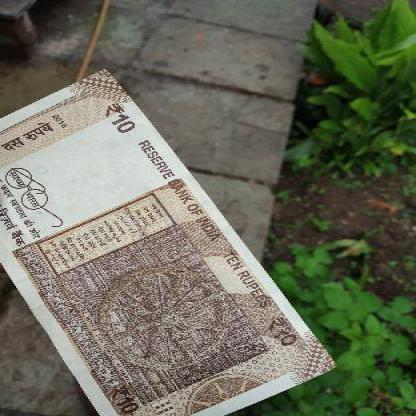New10Back: (0, 69, 335, 409)
